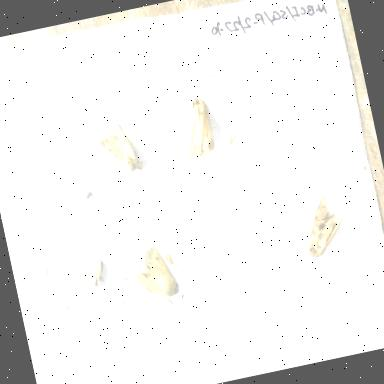abw: (294, 188, 358, 266), (89, 109, 149, 185), (124, 237, 185, 310), (175, 92, 227, 171)
